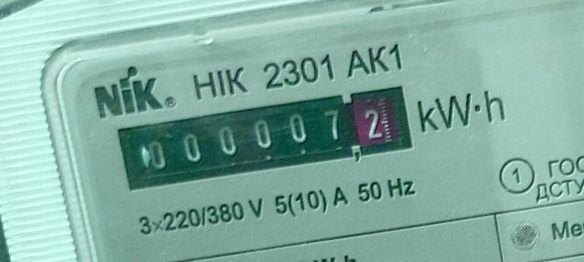0: (213, 121, 241, 162), (284, 109, 310, 148), (251, 116, 276, 156), (144, 136, 170, 174), (180, 129, 205, 167)
2: (361, 106, 386, 144)
7: (320, 105, 346, 146)
screen: (111, 78, 423, 200)
